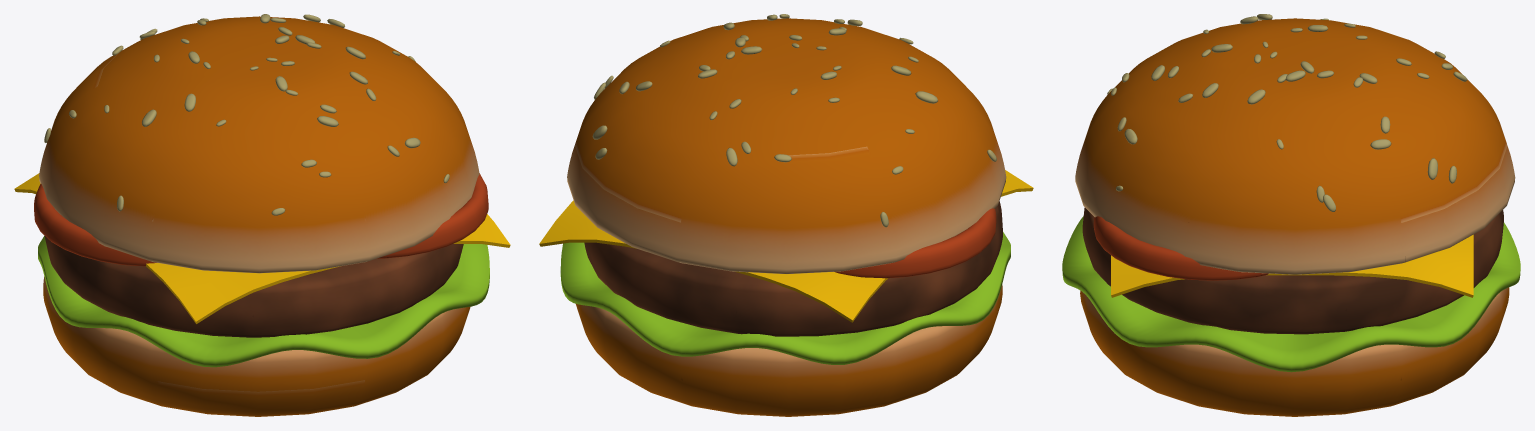
Rendered from burger.glb.
3 views of the same model, side by side, from view 1: azimuth 30°, elevation 25°; view 2: azimuth 150°, elevation 25°; view 3: azimuth 270°, elevation 25° (orthographic).
Bounding box in the file's own units: 0.983 × 0.6928 × 0.9684.
7 materials, 3 textured.
